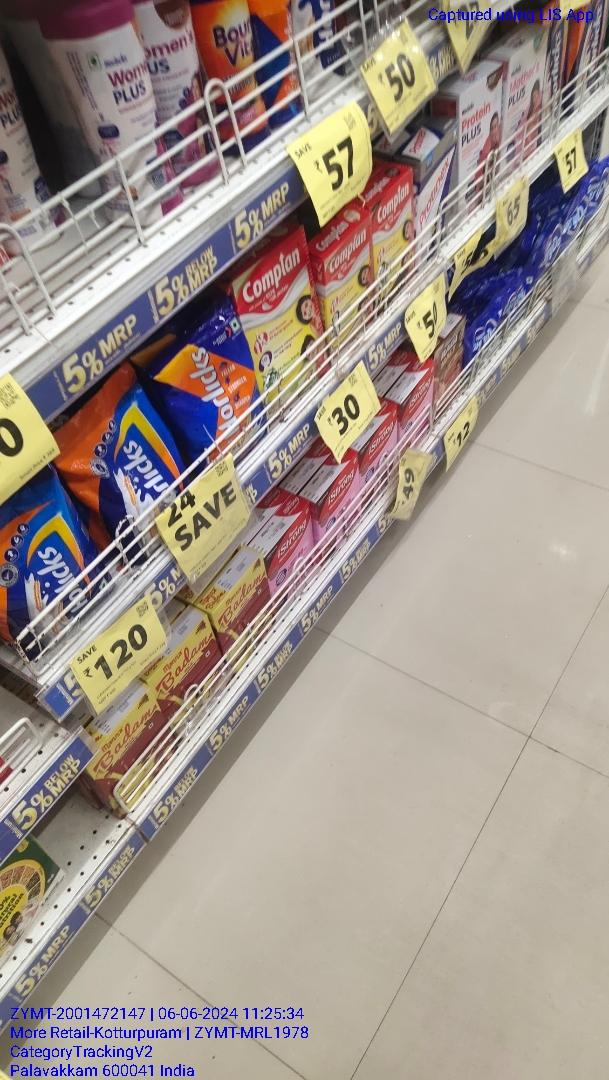COMPLAN_CHOCOLATE_200_GMS_PACK: (375, 183, 413, 304)
COMPLAN_KESAR_BADAM_200_GMS_PACK: (326, 233, 371, 350)
